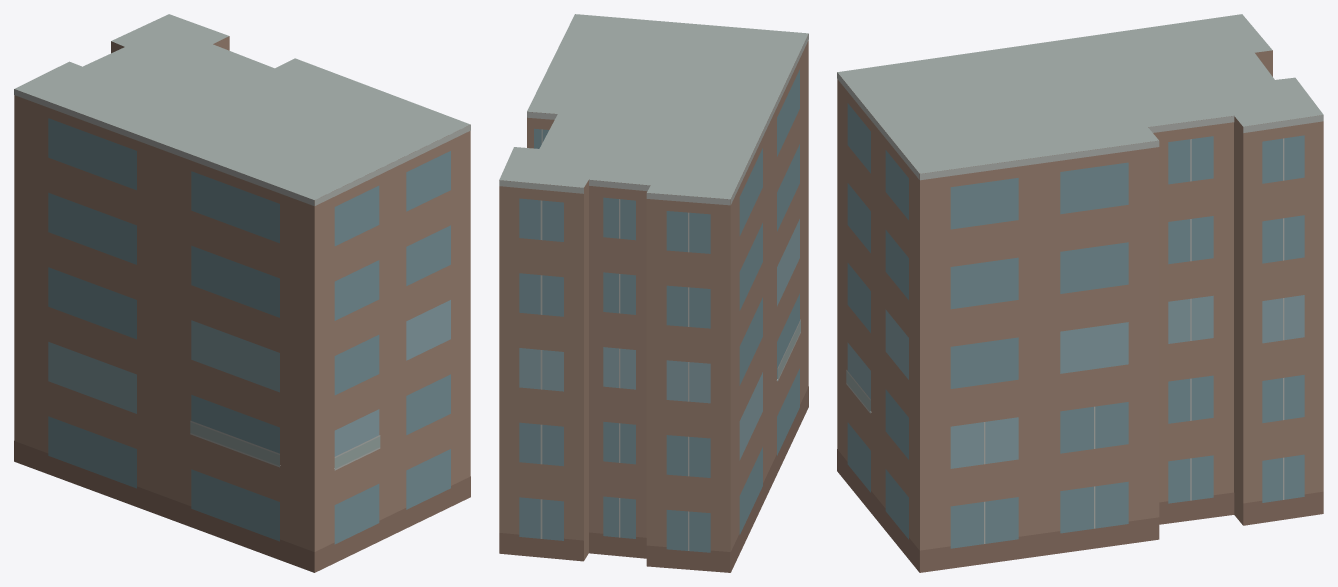
File: survey-upis-32568169.glb
3 views of the same model, side by side, from view 1: azimuth 30°, elevation 25°; view 2: azimuth 150°, elevation 25°; view 3: azimuth 270°, elevation 25° (orthographic). The views are drawn at different scales.
Parts seen in each view (by area): view 1: survey-upis-32568169.tmp; view 2: survey-upis-32568169.tmp; view 3: survey-upis-32568169.tmp.
Part boxes in pixels (x1,y1,x2,y2): survey-upis-32568169.tmp: (14, 14, 470, 572); survey-upis-32568169.tmp: (499, 14, 808, 572); survey-upis-32568169.tmp: (837, 14, 1323, 572).
Bounding box in the file's own units: 12.9 × 15 × 16.58.
